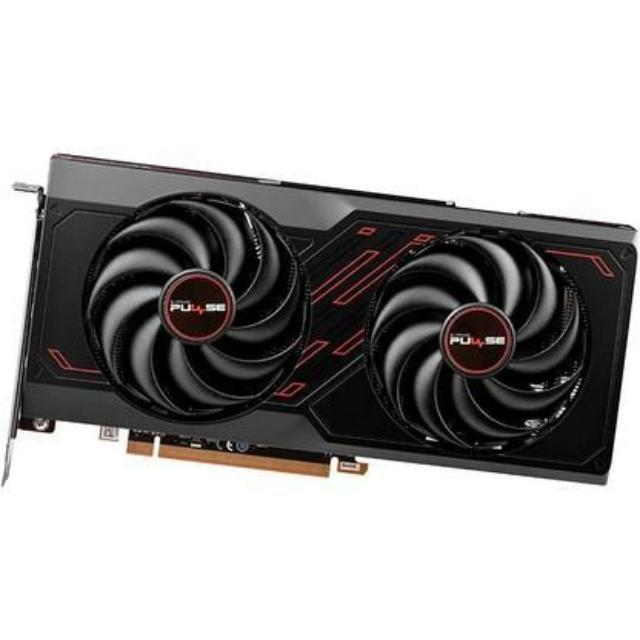GPU: (0, 138, 640, 496)
